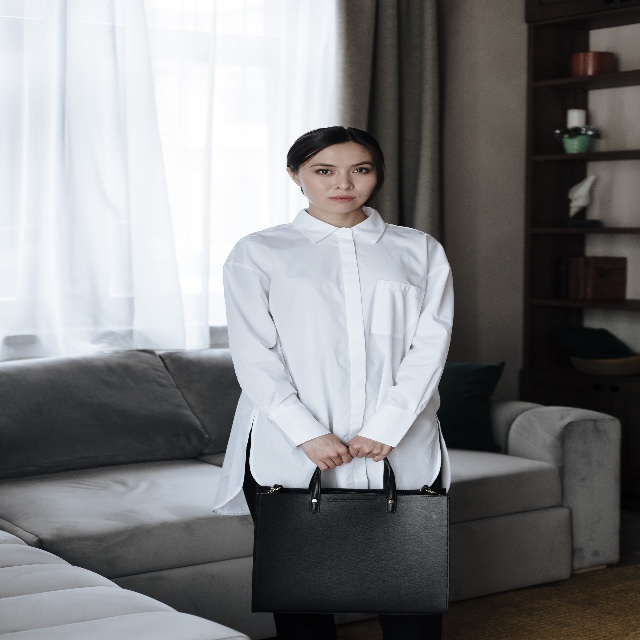Sin_guantes: (300, 434, 352, 475), (346, 433, 394, 465)
